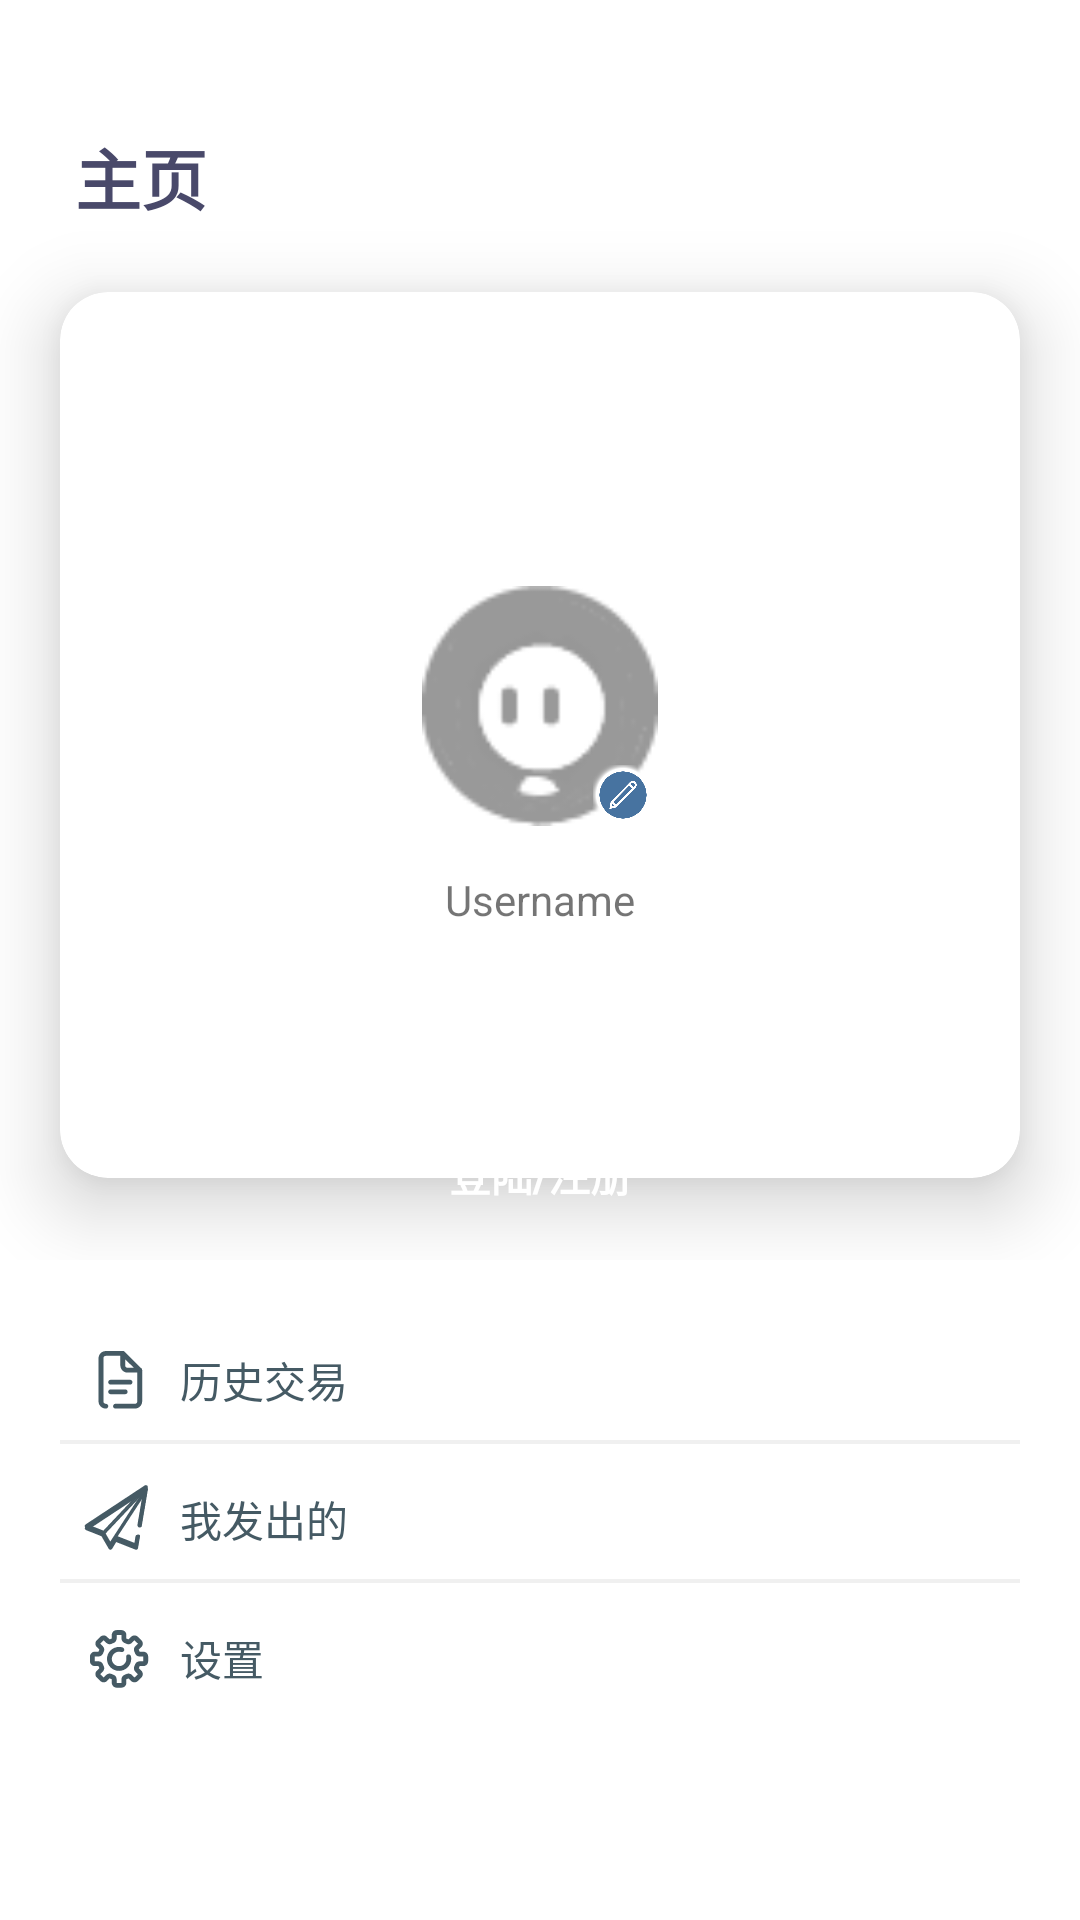

Icon bounding boxes for this 1080 x 1920 phone screenshot, format (x1, y1, x2, y2):
mysent: (84, 1485, 148, 1550)
